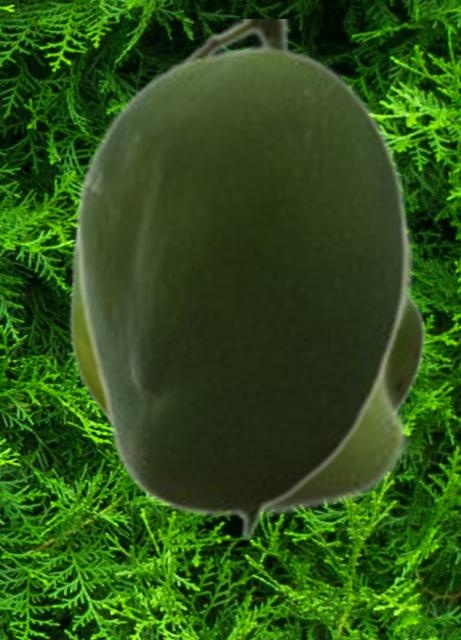green_mango: (72, 19, 408, 541), (68, 232, 425, 422), (264, 200, 416, 517)
